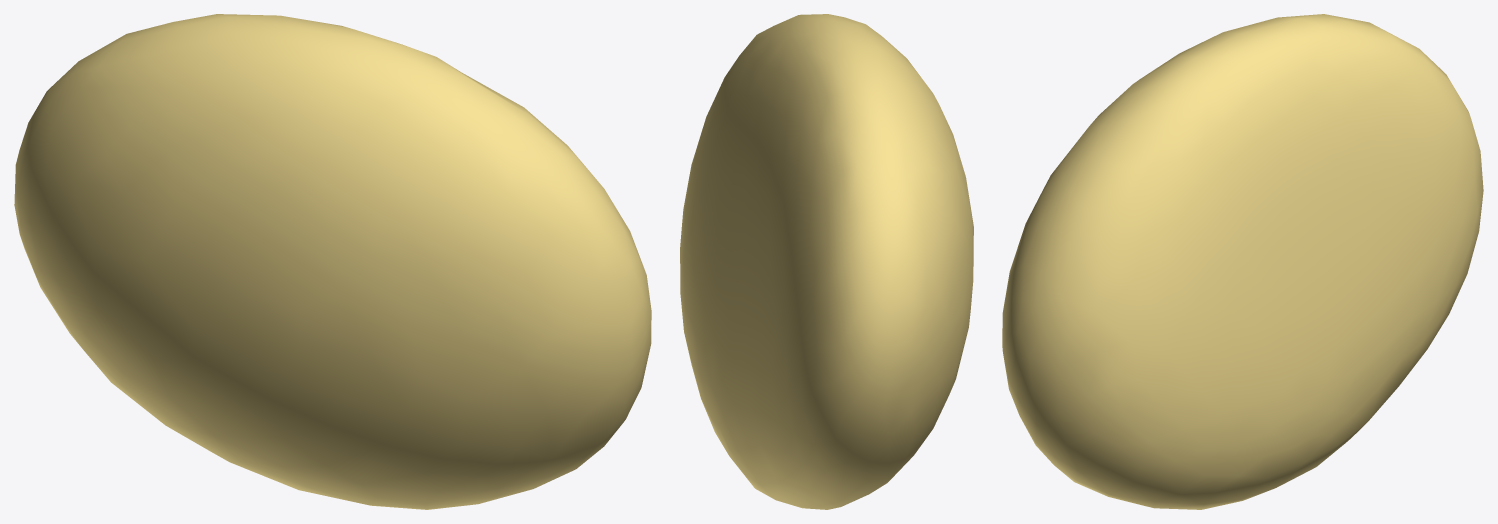
File: fma73505_mm3560m.glb
The picture shows the model from 3 angles, left to right: view 1: azimuth 30°, elevation 25°; view 2: azimuth 150°, elevation 25°; view 3: azimuth 270°, elevation 25°; orthographic projection. The views are drawn at different scales.
Parts seen in each view (by area): view 1: FMA73505_MM3560M; view 2: FMA73505_MM3560M; view 3: FMA73505_MM3560M.
Part boxes in pixels (left/top/right/bottom): FMA73505_MM3560M: left=14, top=14, right=651, bottom=509; FMA73505_MM3560M: left=680, top=14, right=973, bottom=509; FMA73505_MM3560M: left=1002, top=14, right=1483, bottom=509.
Bounding box in the file's own units: 0.00181 × 0.00196 × 0.00199.
